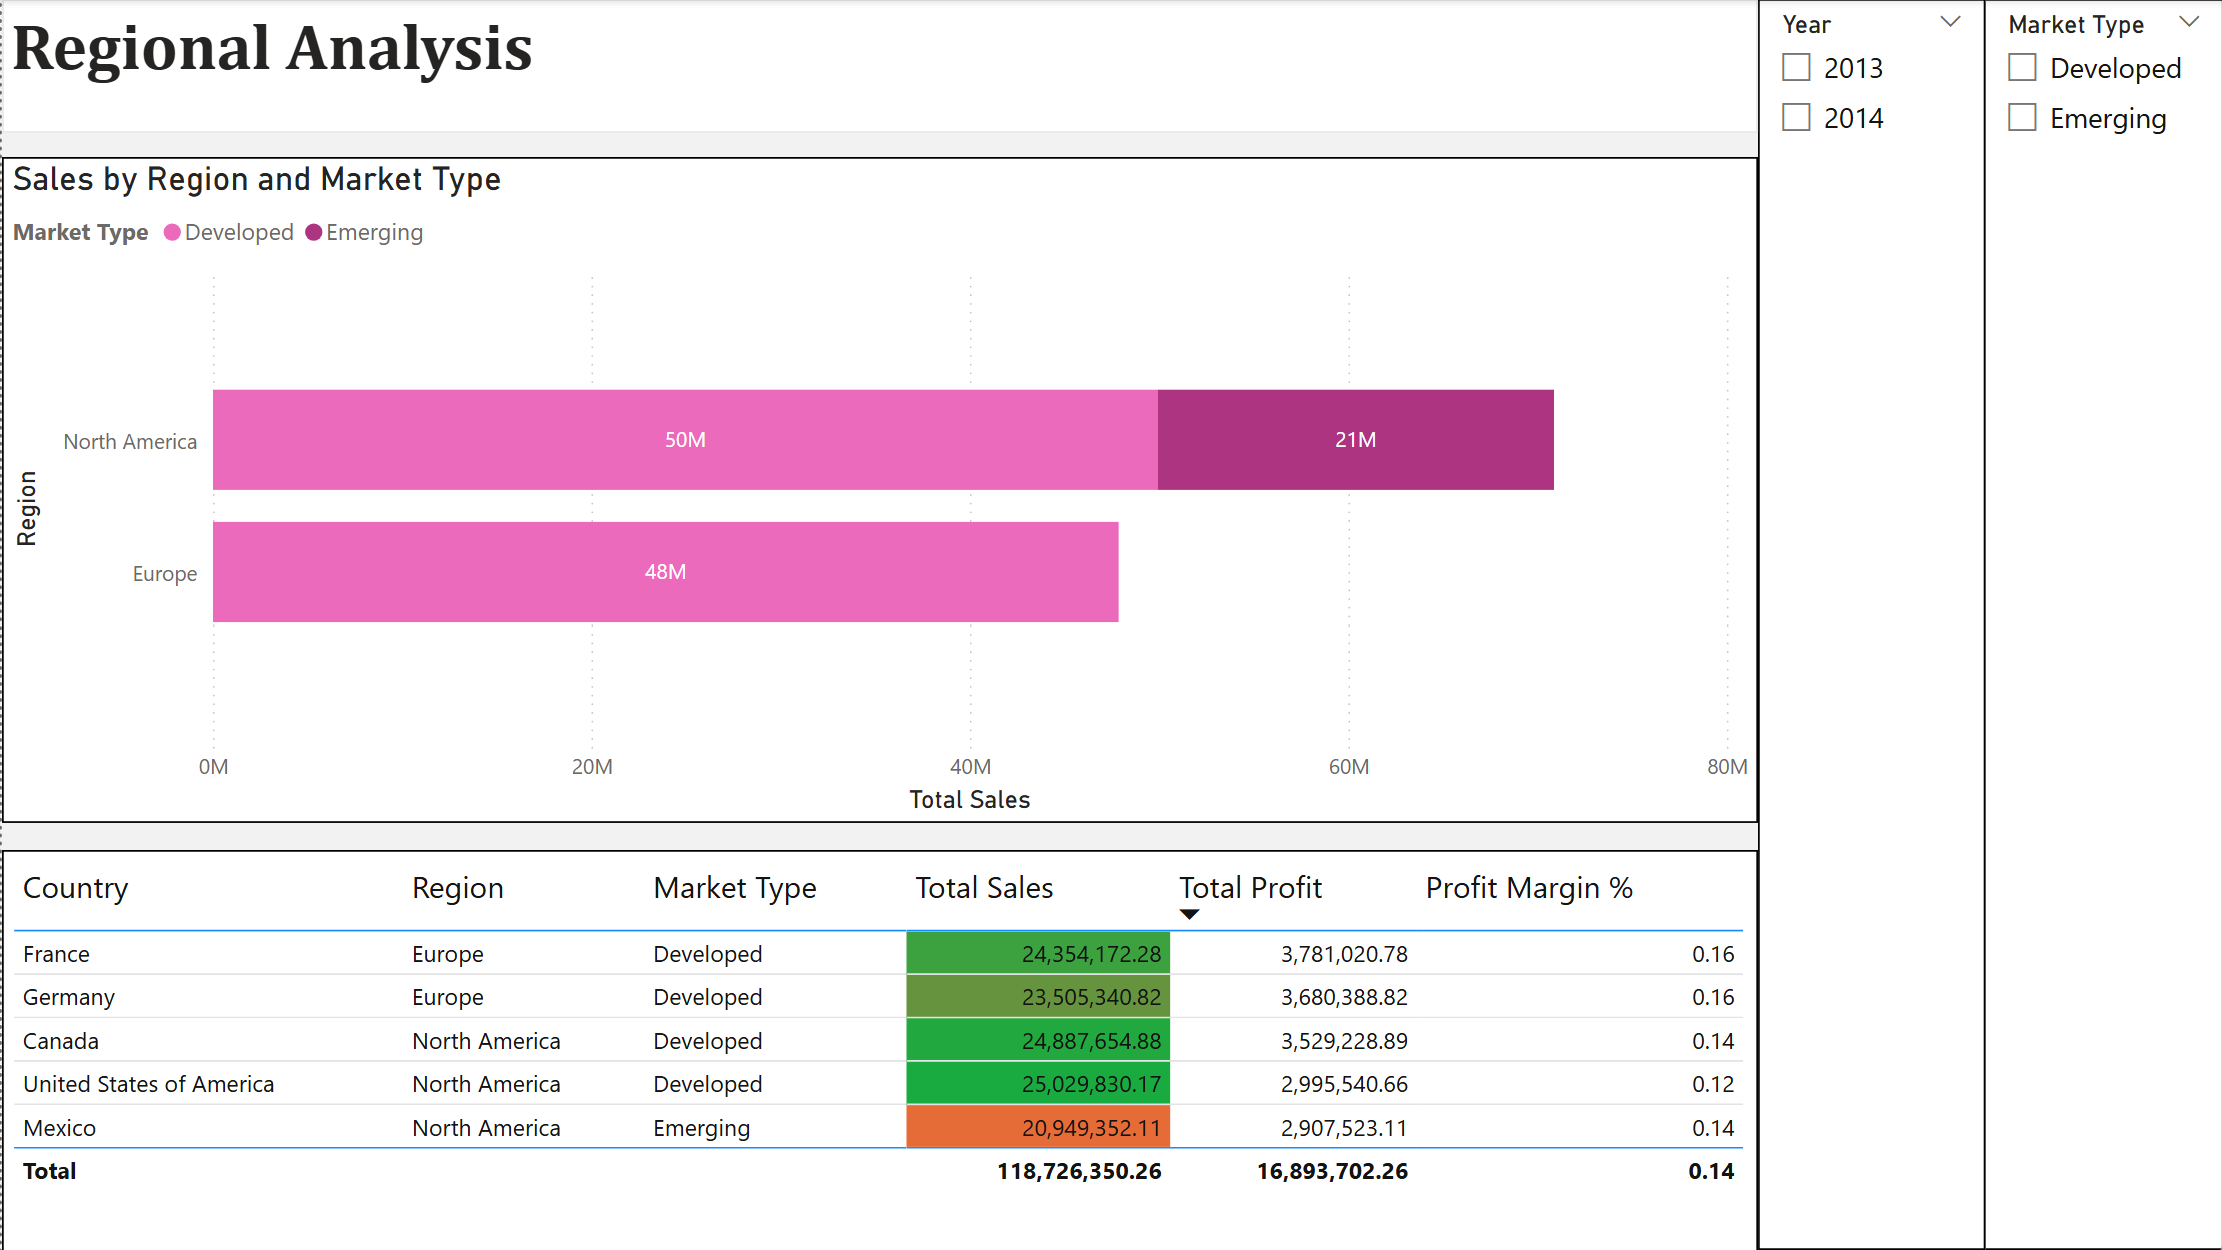

This screenshot's page, from the dashboard's own definition file:
{"tool":"powerbi","page":{"name":"Regional Analysis","canvas":[1280,720],"ordinal":2},"visuals":[{"type":"barChart","title":"Sales by Region and Market Type","fields":{"Category":["Countries.Region"],"Y":["_Measures.Total Sales"],"Series":["Countries.Market Type"]},"box":[0,91.6,1011.5,383],"z":0},{"type":"slicer","fields":{"Values":["Countries.Market Type"]},"box":[1141.6,0,138.2,720],"z":1},{"type":"slicer","fields":{"Values":["financials.Year"]},"box":[1011.8,0,130.8,719.9],"z":2},{"type":"tableEx","fields":{"Values":["Countries.Country","Countries.Region","Countries.Market Type","_Measures.Total Sales","_Measures.Total Profit","_Measures.Profit Margin %"]},"box":[0,489.1,1011.5,233.1],"z":3},{"type":"textbox","box":[0,0,1011.5,77.2],"z":4}]}

Visuals, with their boxes in screenshot pixels (x1, y1, x2, y2), scaled from the page's 1280x720 canvas onto the 2222x1250 screenshot:
"Sales by Region and Market Type" barChart: left=0, top=159, right=1756, bottom=824
slicer - Countries.Market Type: left=1982, top=0, right=2221, bottom=1249
slicer - financials.Year: left=1756, top=0, right=1983, bottom=1249
tableEx - Countries.Country x Countries.Region: left=0, top=849, right=1756, bottom=1249
textbox: left=0, top=0, right=1756, bottom=134
